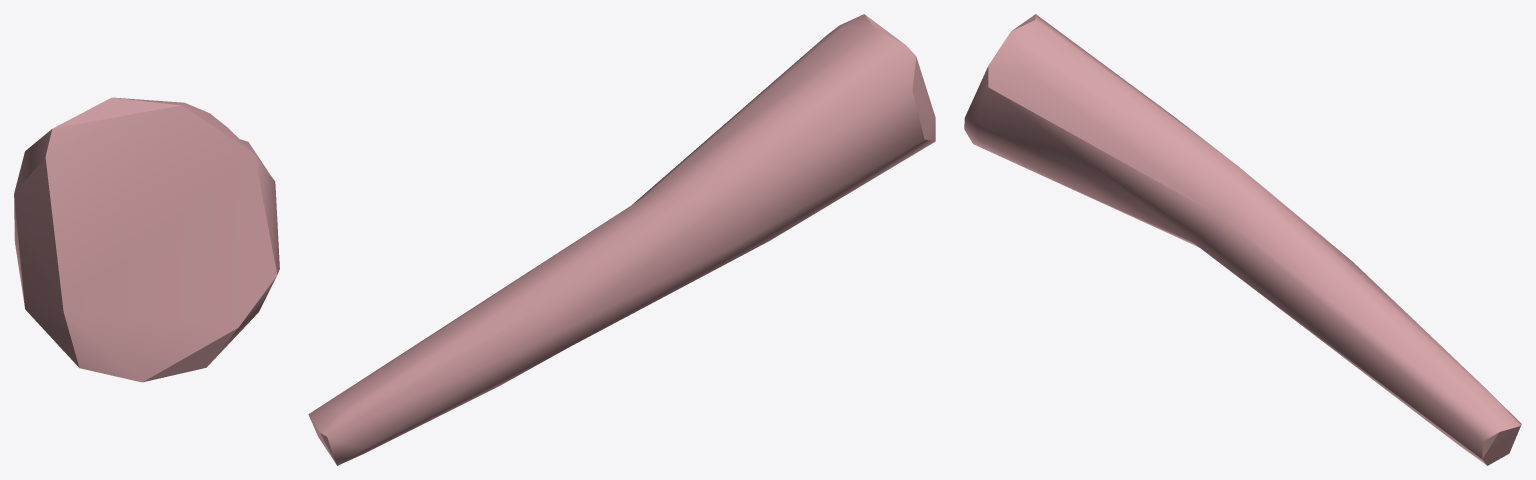
Rendered from fma68225_fj2465.glb.
3 views of the same model, side by side, from view 1: azimuth 30°, elevation 25°; view 2: azimuth 150°, elevation 25°; view 3: azimuth 270°, elevation 25° (orthographic). The views are drawn at different scales.
Parts seen in each view (by area): view 1: FMA68225_FJ2465; view 2: FMA68225_FJ2465; view 3: FMA68225_FJ2465.
Part boxes in pixels (box(x1,y1,x2,y2)): FMA68225_FJ2465: box(14, 97, 279, 382); FMA68225_FJ2465: box(308, 14, 935, 465); FMA68225_FJ2465: box(964, 14, 1521, 465).
Size of the model in its own units: 0.0137 by 0.0116 by 0.019.
